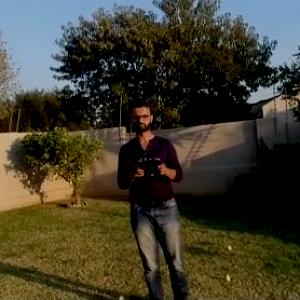follow: (112, 95, 192, 299)
